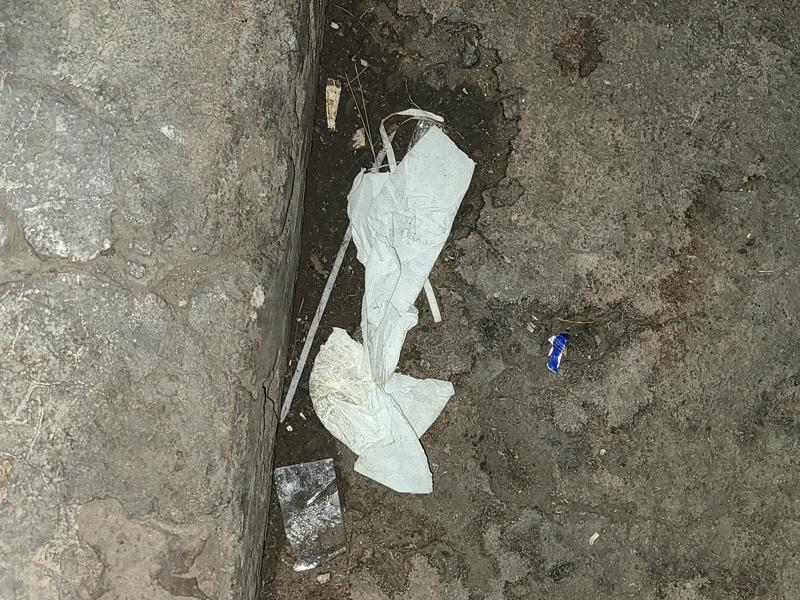papel: (309, 125, 475, 496)
